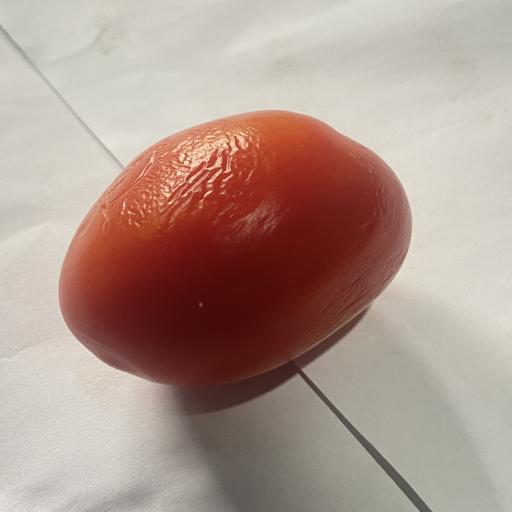spoiled: (59, 111, 411, 385)
